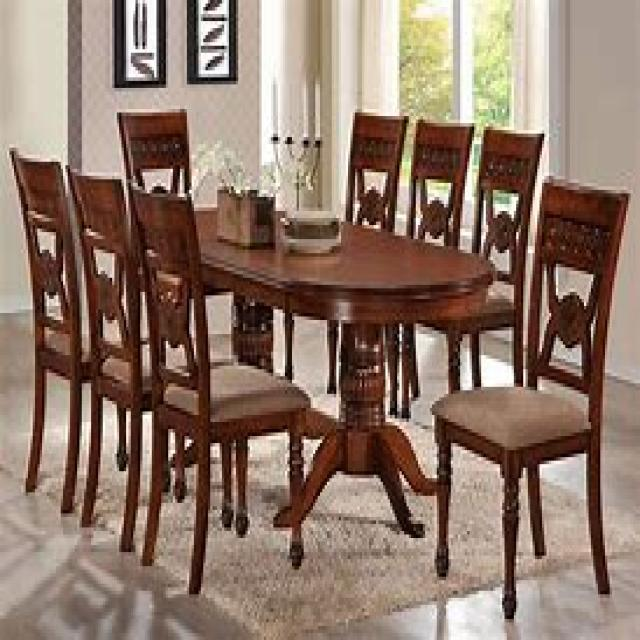chair: (430, 172, 630, 619), (126, 176, 311, 594), (63, 162, 236, 552), (7, 144, 128, 514), (400, 123, 544, 415)
table: (80, 200, 496, 570)
